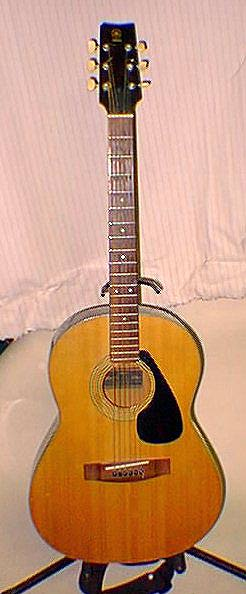guitar: (25, 21, 231, 566)
